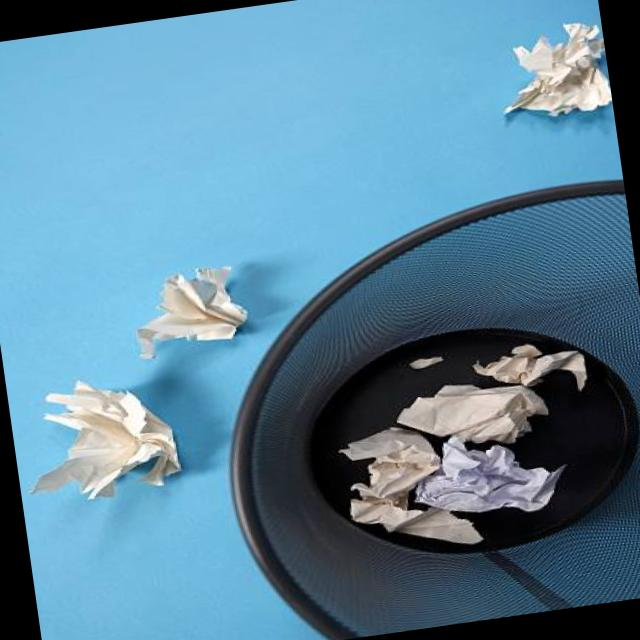electronic: (13, 367, 184, 508), (334, 416, 484, 562), (405, 422, 570, 528), (391, 371, 552, 458), (489, 18, 614, 124), (126, 260, 252, 360), (346, 479, 483, 561), (334, 421, 444, 504), (468, 336, 588, 406)
